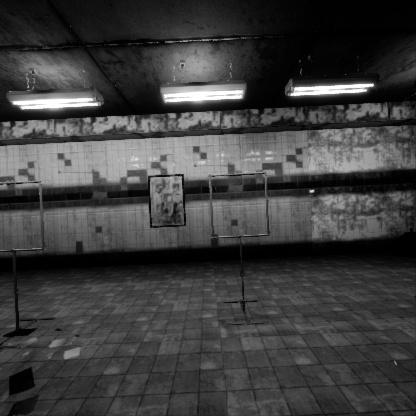gate: (208, 176, 275, 244)
